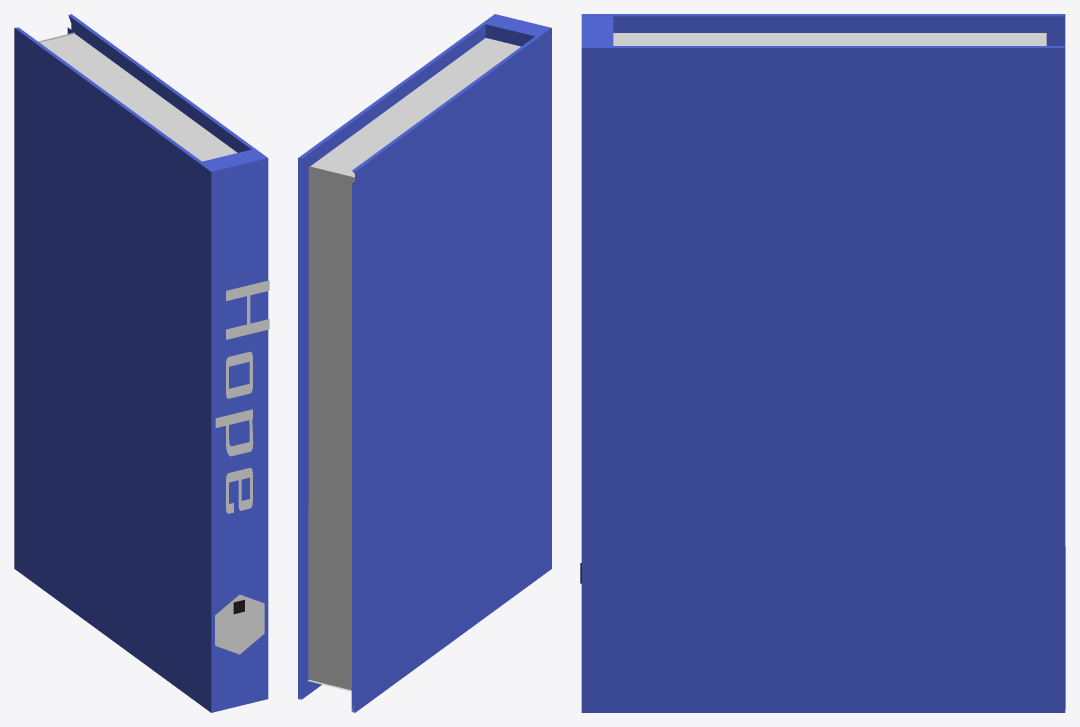
Rendered from Book_Hope.fbx.
3 views of the same model, side by side, from view 1: azimuth 30°, elevation 25°; view 2: azimuth 150°, elevation 25°; view 3: azimuth 270°, elevation 25° (orthographic). The views are drawn at different scales.
Visible parts, largest first — view 1: Book, Text, Cylinder; view 2: Book; view 3: Book.
Boxes of the visible parts, bbox=[...] form: Book: bbox=[14, 14, 268, 712]; Text: bbox=[215, 280, 269, 513]; Cylinder: bbox=[215, 594, 264, 654]; Book: bbox=[298, 14, 551, 712]; Book: bbox=[581, 14, 1065, 712].
Bounding box in the file's own units: 6.77 × 60.59 × 40.09.
